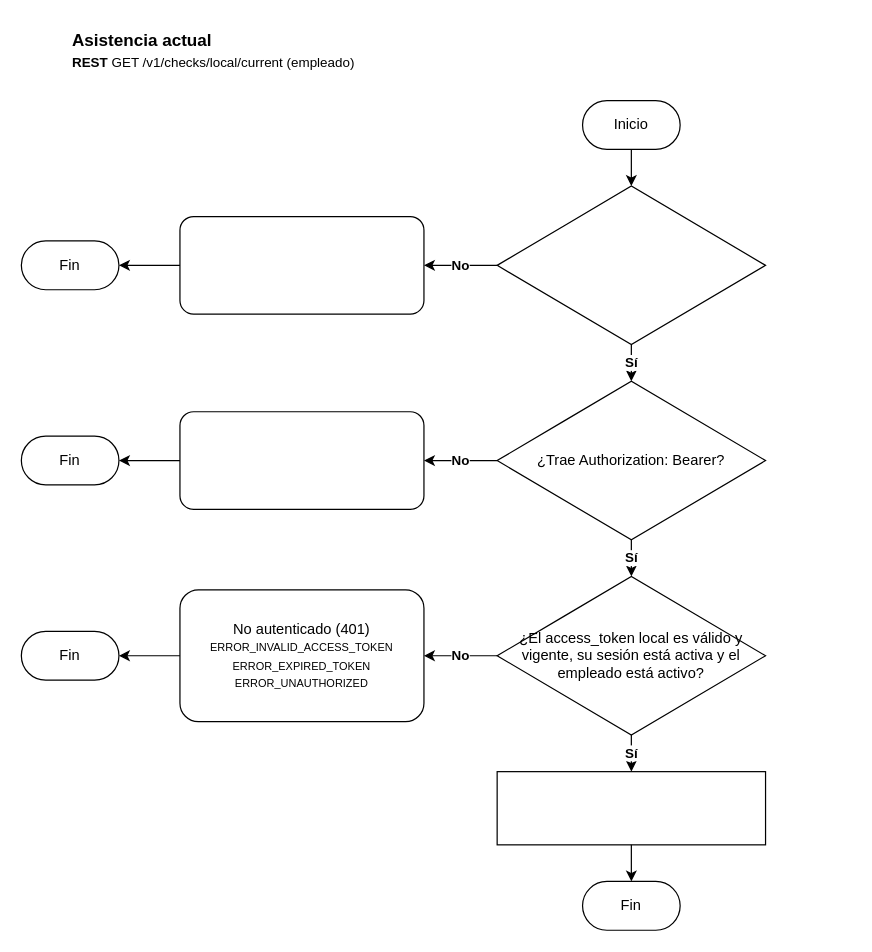
Some shapes in this 872 by 952 pixel diagram are drawn without their labels. Here are the shapes that lost their labels. From the top down, the centre of each, then its label:
pixel 301 264: Servidor sin emparejar (409) ERROR_SERVER_NOT_PAIRED
pixel 631 265: ¿El servidor ya se emparejó alguna vez (pairing_status distinto de unpaired)?
pixel 301 460: Falta el token (401) ERROR_MISSING_TOKEN
pixel 631 807: Responder 200 con el mensaje CURRENT_RETRIEVED
